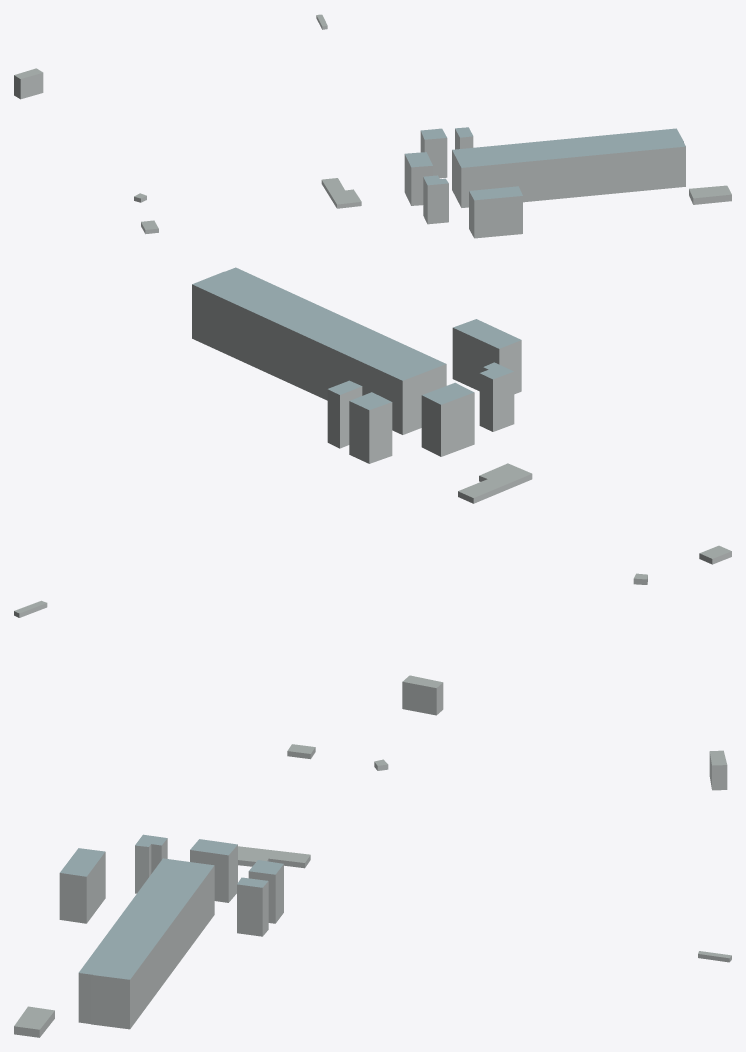
File: far.glb
The picture shows the model from 3 angles, top to bottom: view 1: azimuth 30°, elevation 25°; view 2: azimuth 150°, elevation 25°; view 3: azimuth 270°, elevation 25°; orthographic projection. The views are drawn at different scales.
Size of the model in its own units: 298 by 23.85 by 313.
